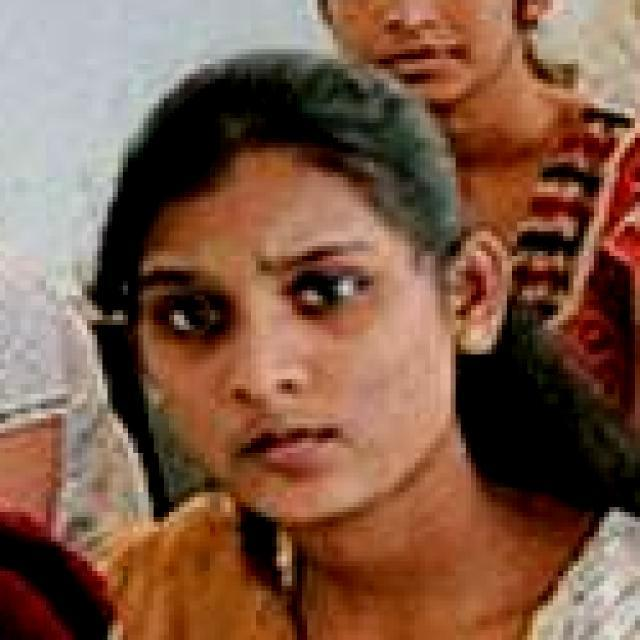Looking forward: (101, 156, 451, 524)
